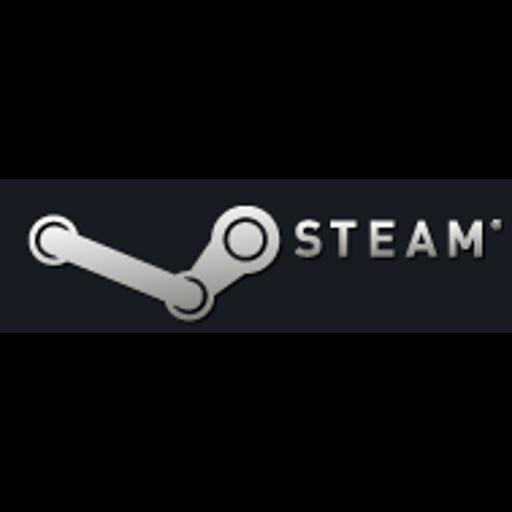Steam: (0, 179, 512, 333)
